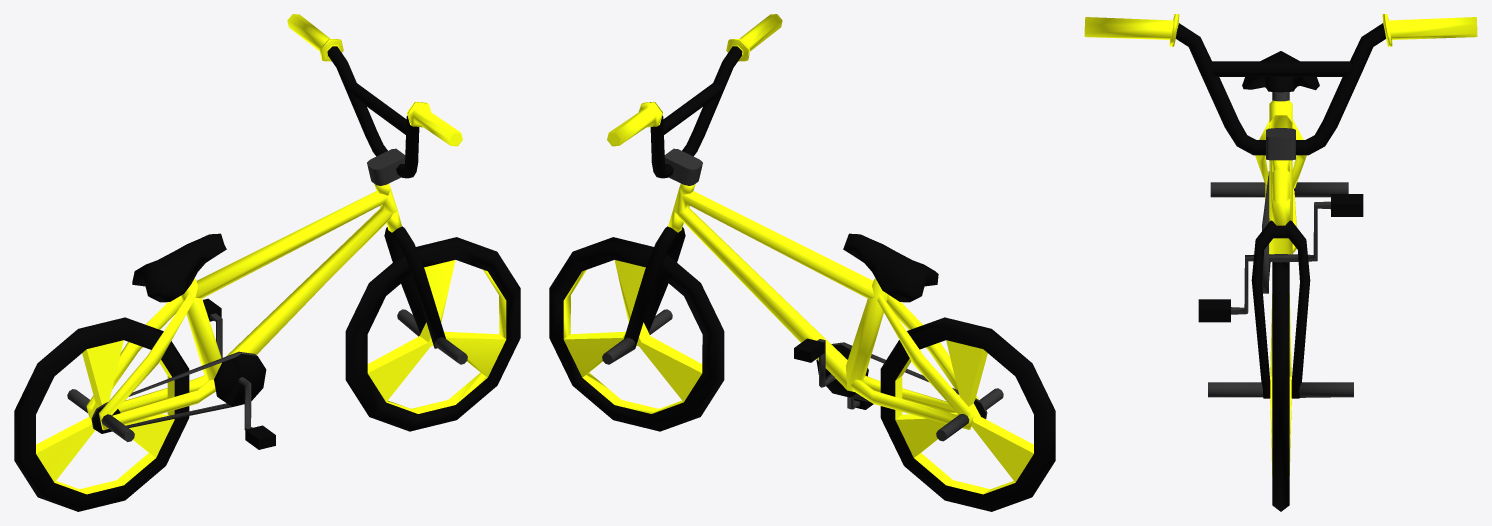
Rendered from BicycleBmxPegsYellow.glb.
3 renders of one model, left to right at view 1: azimuth 30°, elevation 25°; view 2: azimuth 150°, elevation 25°; view 3: azimuth 270°, elevation 25°, orthographic. The views are drawn at different scales.
Parts seen in each view (by area): view 1: BicycleBmxPegsYellow; view 2: BicycleBmxPegsYellow; view 3: BicycleBmxPegsYellow.
Boxes of the visible parts, x1,y1,x2,y2 form: BicycleBmxPegsYellow: (14, 14, 520, 511); BicycleBmxPegsYellow: (549, 14, 1055, 511); BicycleBmxPegsYellow: (1084, 14, 1477, 511).
Bounding box in the file's own units: 1.84 × 1.28 × 1.02.
Materials: 1 (1 with a texture image).
